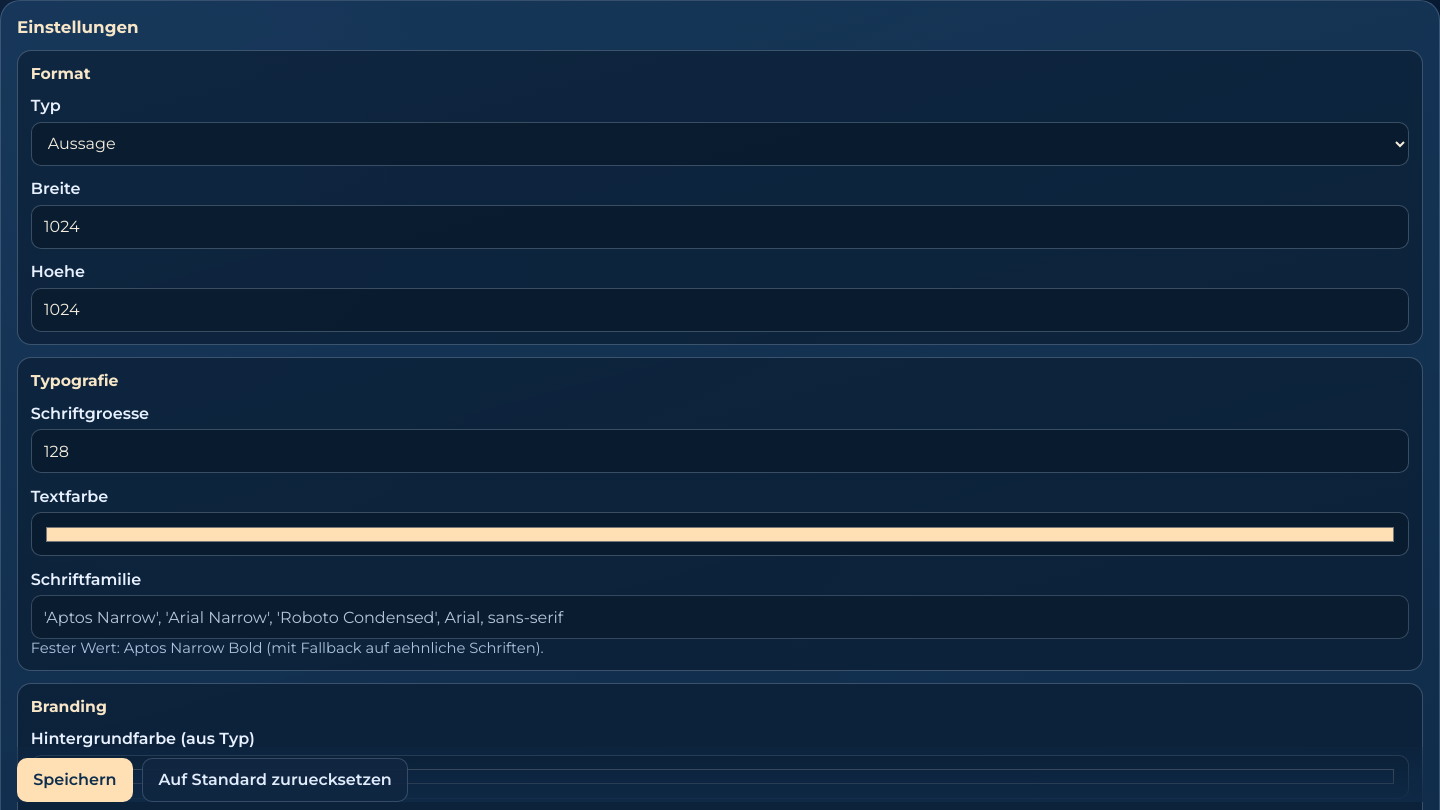
Test: pages › settings blocks invalid values on save
Replace the text in the number field labelled "Breite" with "50" at (720, 227), box [31,205,1409,249]
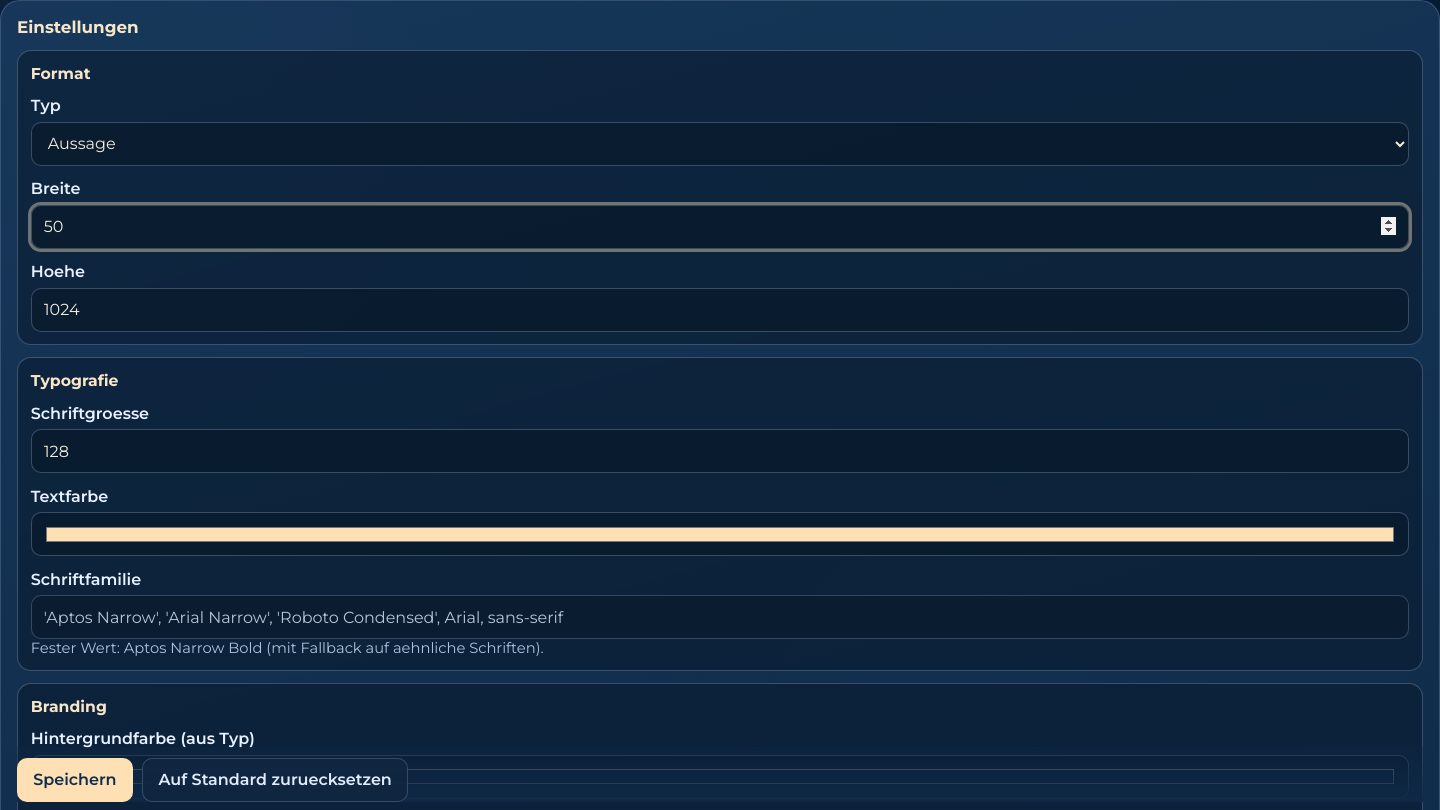
Click the button "Speichern" at (75, 780), box [17,758,133,802]
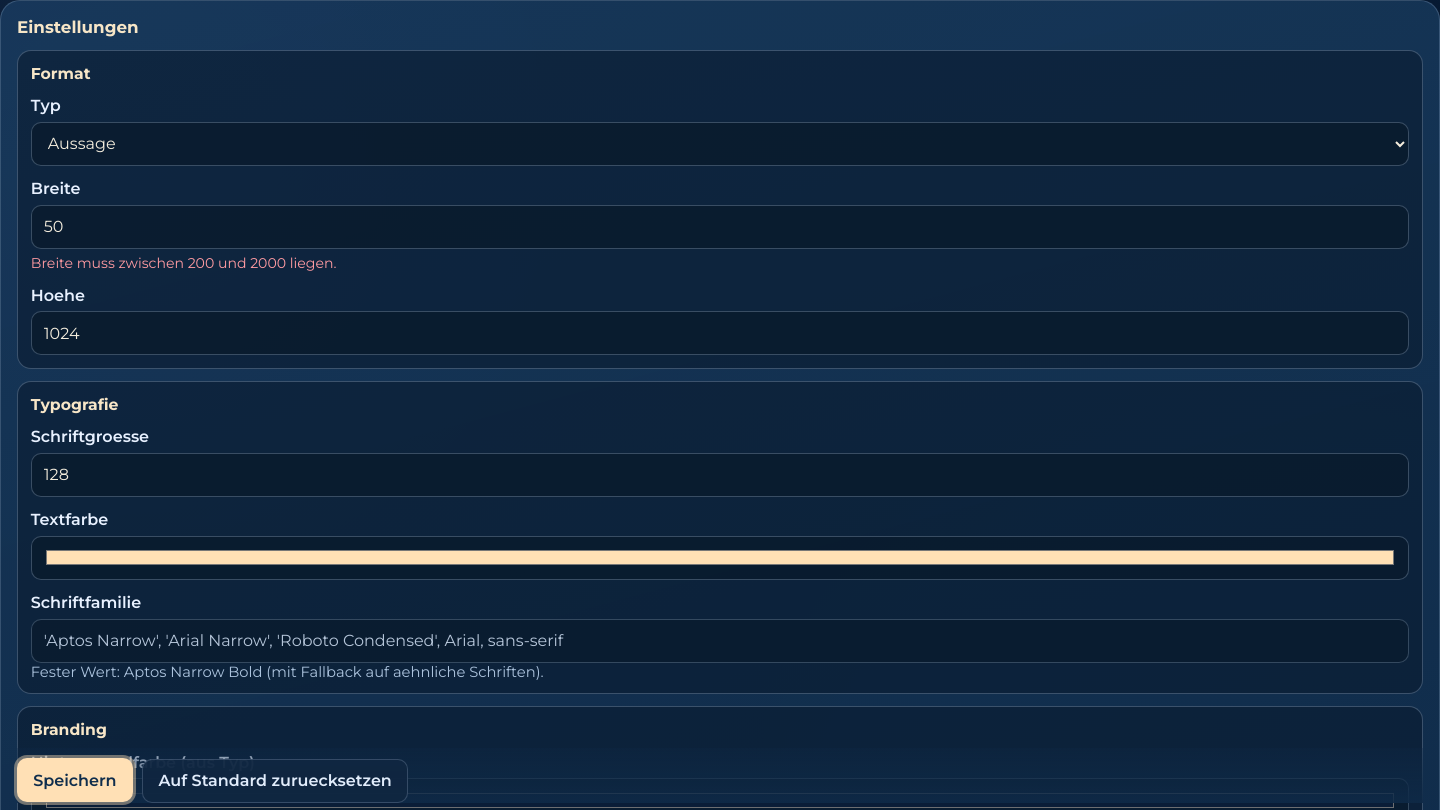
Expected: the text "Breite muss zwischen 200 und 2000 liegen." is shown, [31,254,336,272]
